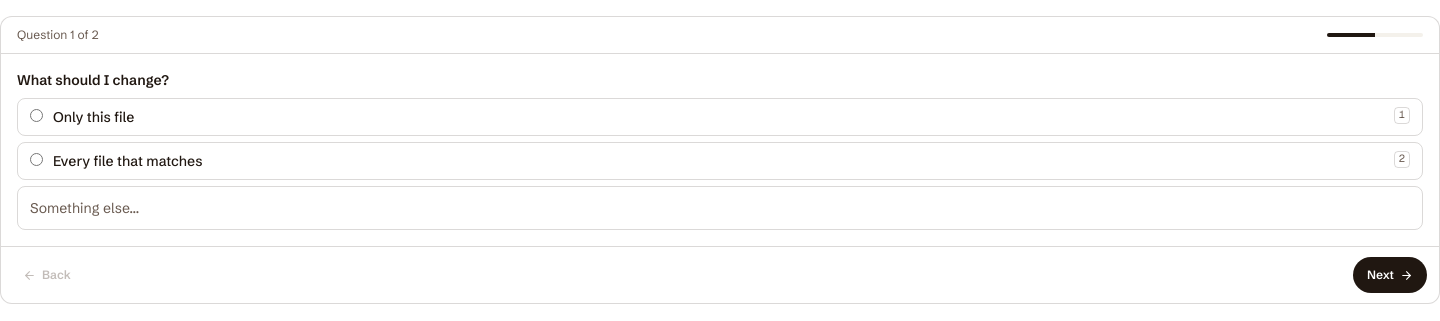
Test: Questionnaire › moves back to an earlier question with the answer intact
Click the radio button labelled "Only this file 1": coordinates (36, 116) [30,109,43,122]
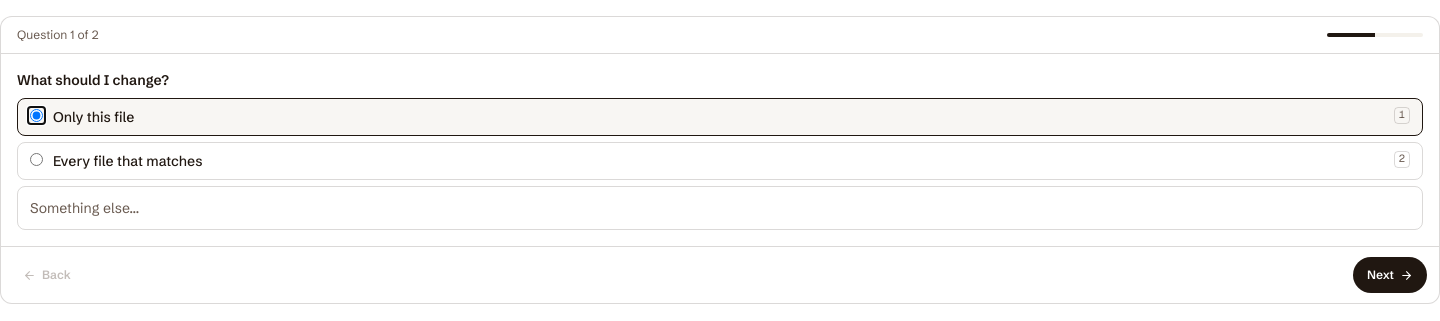
Click the button "Next": coordinates (1390, 275) [1353,257,1427,293]
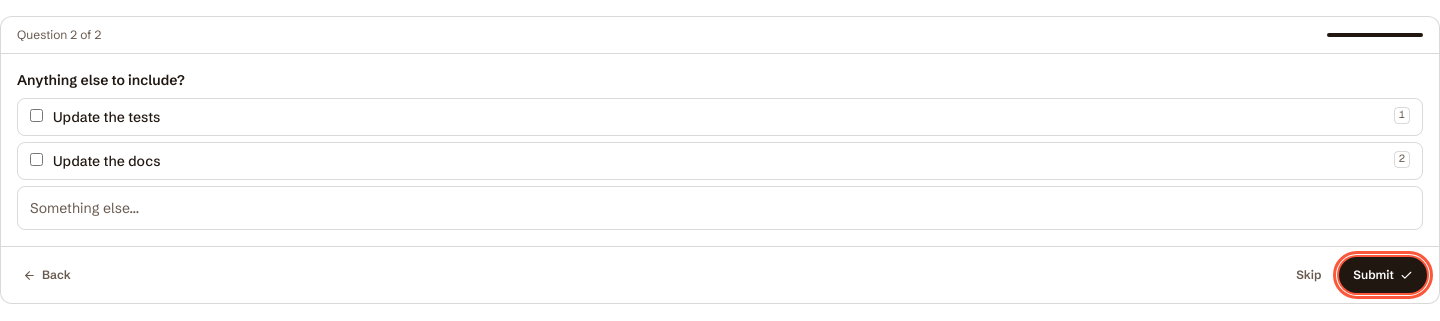
Click the button "Back": coordinates (47, 275) [13,257,81,293]
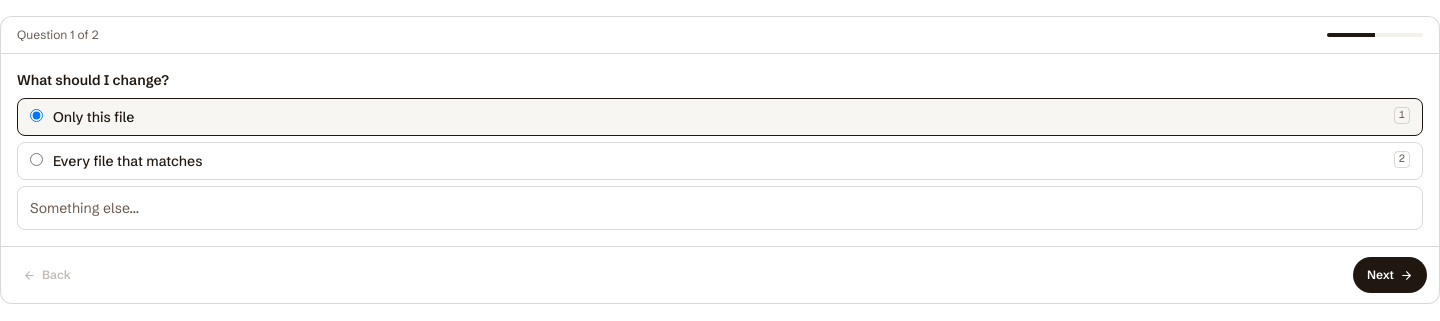
Expected: the radio button labelled "Only this file 1" is checked, [30,109,43,122]
